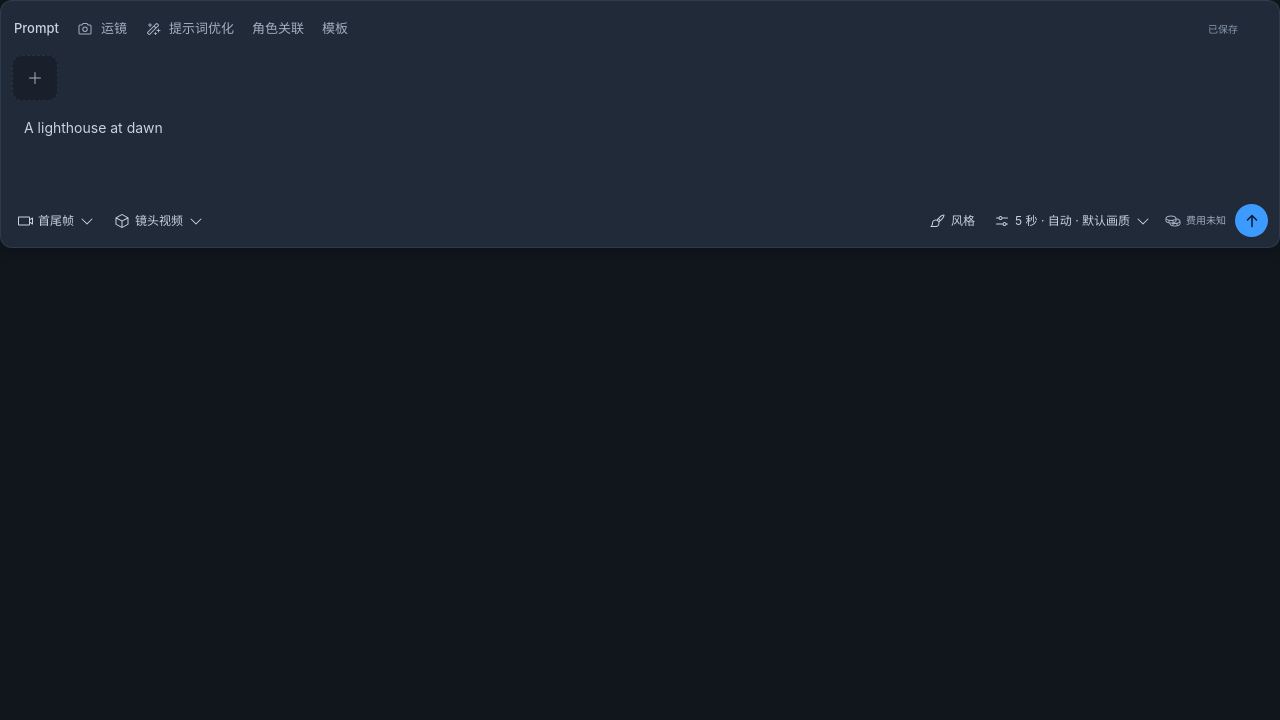
Test: MediaDraftEditor › preserves appended camera direction locally after saving fails
Step 1. Click the button "运镜" → {"x": 102, "y": 29}, box [77,11,127,47]
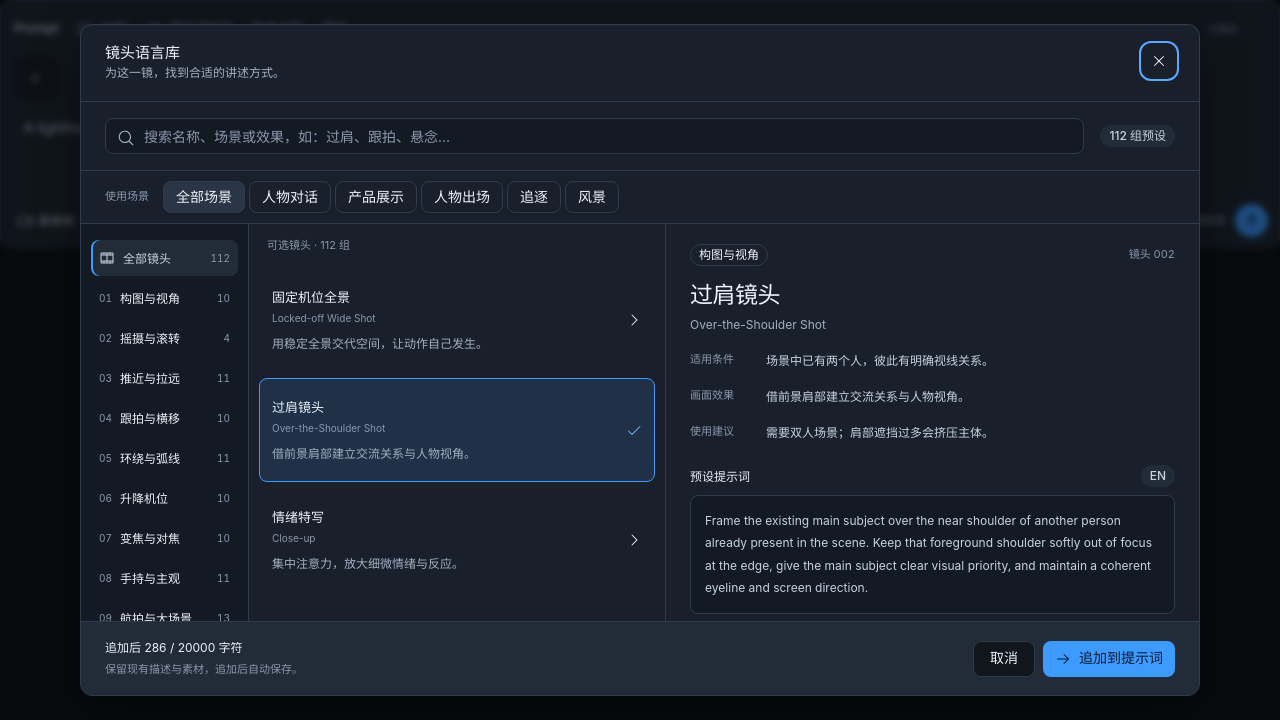
Step 2. Click the button "追加到提示词" → {"x": 1109, "y": 659}, box [1043,641,1175,677]
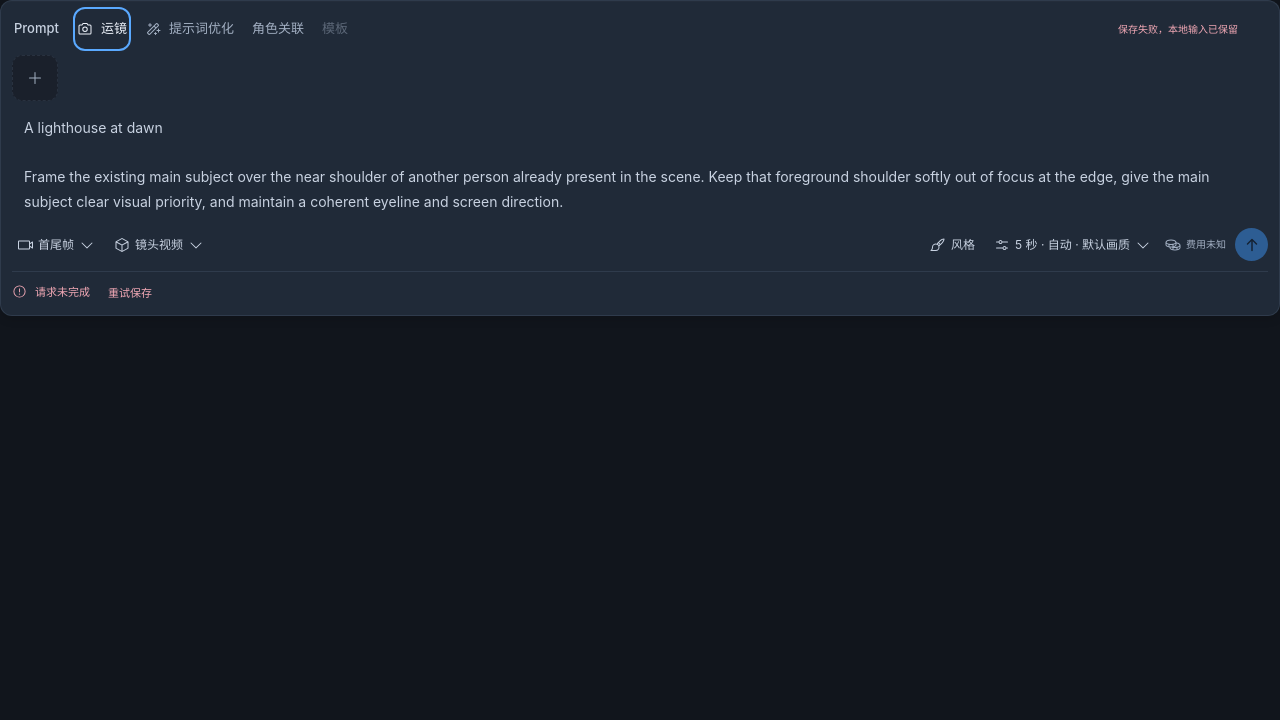
Expected: the button "重试保存" is shown, [100,281,160,305]
Expected: the field named "视频提示词" shows "Frame the existing main subject over the near shoulder of another person already present in the scene. Keep that foreground shoulder softly out of focus at the", [12,108,1268,222]
